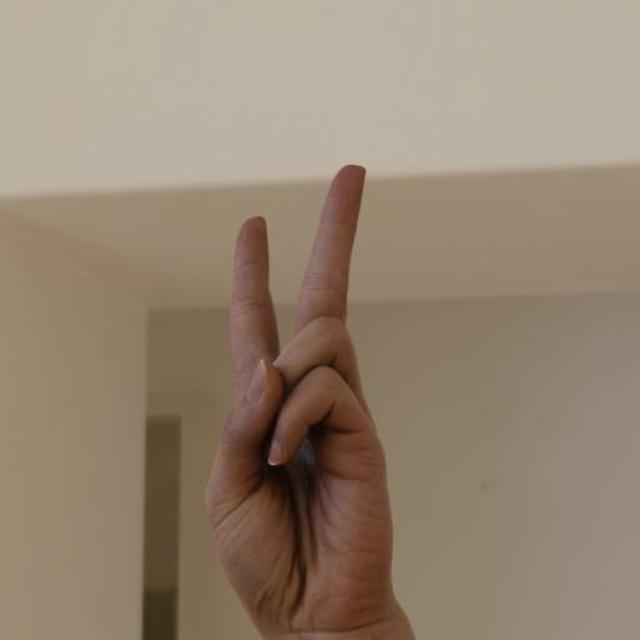V: (203, 163, 402, 616)
